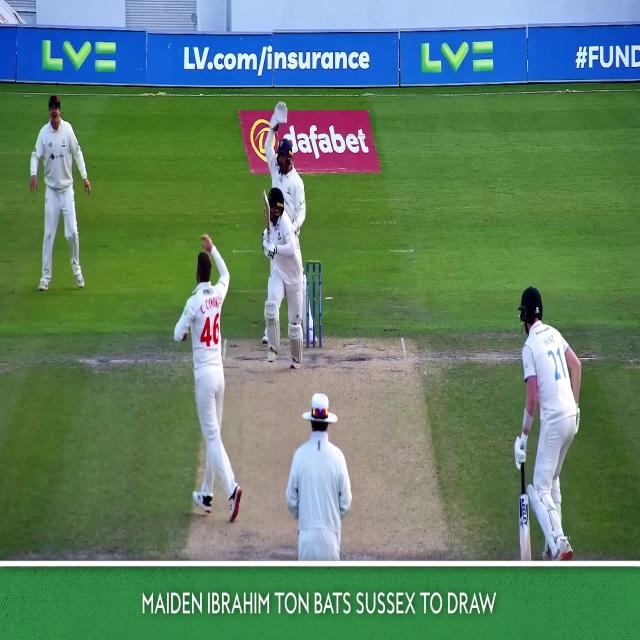stump: (307, 260, 322, 349)
